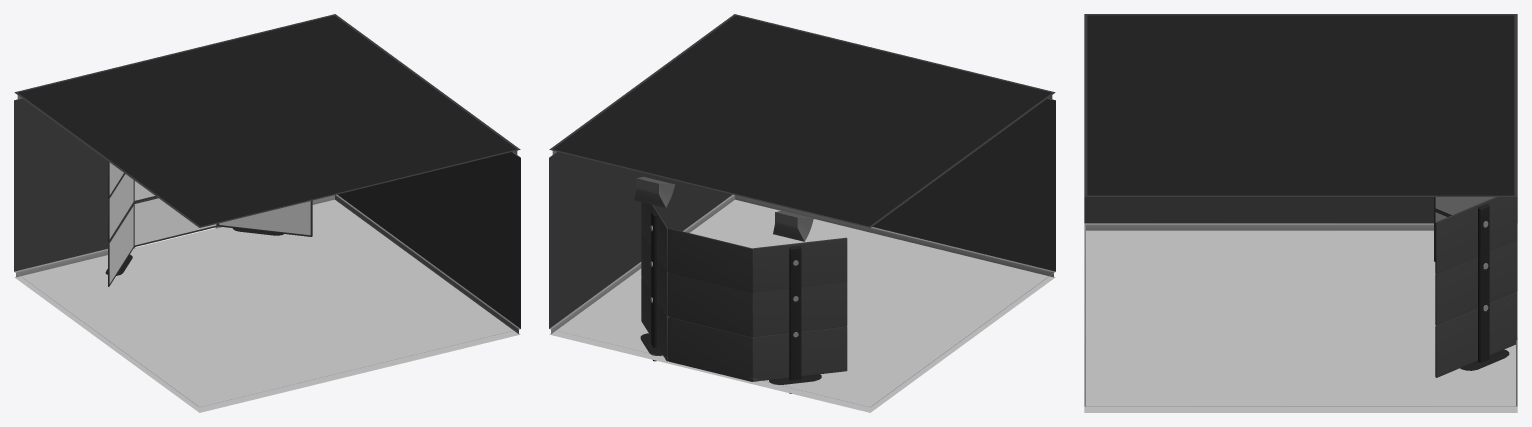
File: screenRoom.fbx
The picture shows the model from 3 angles, left to right: view 1: azimuth 30°, elevation 25°; view 2: azimuth 150°, elevation 25°; view 3: azimuth 270°, elevation 25°; orthographic projection. The views are drawn at different scales.
Visible parts, largest first — view 1: roof.001, floor, wall, screen.002, screen.003, screen.001, screen.004; view 2: roof.001, wall, floor, screen.005, screen.002, screen.007, screen.009, screen.001, screen.004, screenHolder.001, screenHolder, screen.003 (+4 smaller); view 3: roof.001, floor, wall, screen.003, screen.006, screen.008, screenHolder, screen.004.
Part boxes in pixels (x1,y1,x2,y2): roof.001: (18, 15, 516, 226); floor: (14, 199, 520, 412); wall: (14, 14, 520, 407); screen.002: (134, 197, 217, 246); screen.003: (218, 200, 312, 236); screen.001: (108, 203, 134, 286); screen.004: (108, 174, 134, 242); roof.001: (553, 15, 1051, 226); wall: (549, 14, 1055, 407); floor: (549, 199, 1055, 412); screen.005: (668, 228, 753, 293); screen.002: (668, 317, 753, 381); screen.007: (753, 237, 847, 292); screen.009: (668, 272, 753, 337); screen.001: (753, 326, 847, 381); screen.004: (753, 282, 847, 337); screenHolder.001: (769, 246, 821, 393); screenHolder: (640, 210, 662, 361); screen.003: (641, 277, 667, 361); roof.001: (1087, 15, 1514, 195); floor: (1084, 230, 1517, 412); wall: (1084, 14, 1517, 406); screen.003: (1435, 292, 1517, 377); screen.006: (1435, 240, 1517, 325); screen.008: (1435, 197, 1517, 274); screenHolder: (1460, 204, 1509, 370); screen.004: (1434, 197, 1494, 215).
Bounding box in the file's own units: 399 × 235 × 400.
